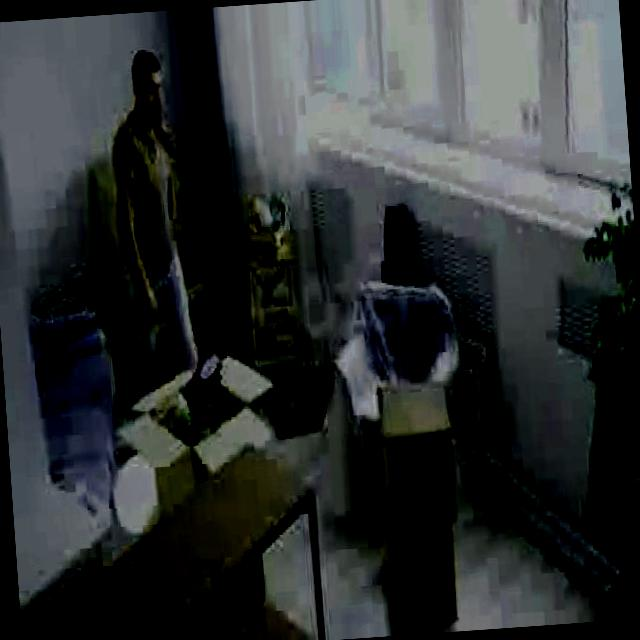Box: (373, 387, 461, 518), (384, 517, 459, 617)
